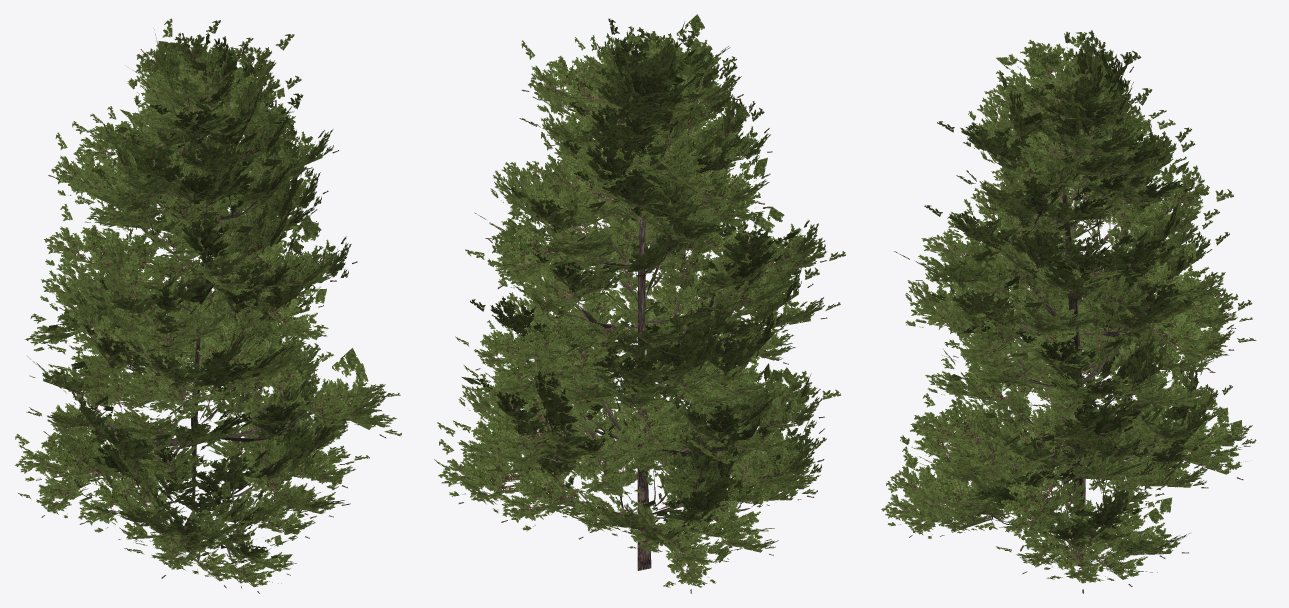
The model's file is tree_noble.obj.
The picture shows the model from 3 angles, left to right: view 1: azimuth 30°, elevation 25°; view 2: azimuth 150°, elevation 25°; view 3: azimuth 270°, elevation 25°; orthographic projection. The views are drawn at different scales.
Visible parts, largest first — view 1: Tree_Branches, Tree_Bark; view 2: Tree_Branches, Tree_Bark; view 3: Tree_Branches, Tree_Bark.
Boxes of the visible parts, left/top/right/bottom form: Tree_Branches: left=14, top=18, right=401, bottom=593; Tree_Bark: left=83, top=94, right=329, bottom=564; Tree_Branches: left=434, top=14, right=845, bottom=593; Tree_Bark: left=536, top=108, right=769, bottom=570; Tree_Branches: left=881, top=30, right=1256, bottom=593; Tree_Bark: left=949, top=119, right=1169, bottom=566.
Bounding box in the file's own units: 5.27 × 7.41 × 5.05.
2 materials, 2 textured.
